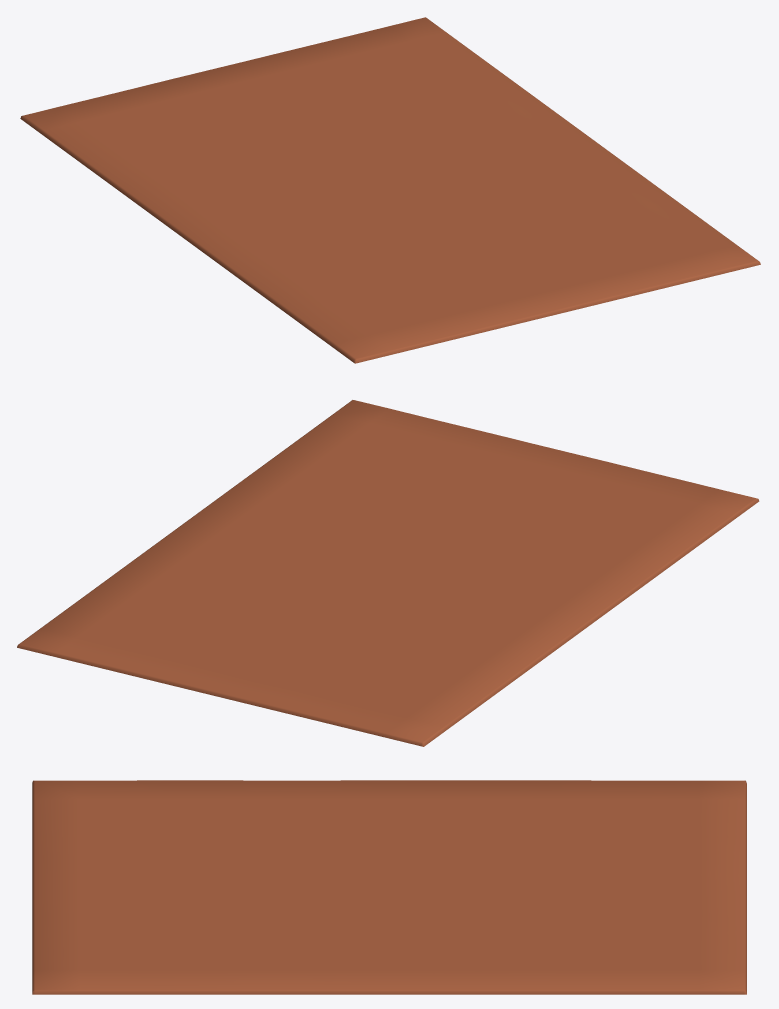
The model's file is rug_rust.glb.
3 renders of one model, top to bottom at view 1: azimuth 30°, elevation 25°; view 2: azimuth 150°, elevation 25°; view 3: azimuth 270°, elevation 25°, orthographic. The views are drawn at different scales.
Parts seen in each view (by area): view 1: rug_soft; view 2: rug_soft; view 3: rug_soft.
Part boxes in pixels (x1=…): rug_soft: x1=20, y1=17, x2=760, y2=363; rug_soft: x1=17, y1=400, x2=759, y2=746; rug_soft: x1=32, y1=780, x2=746, y2=994.
Size of the model in its own units: 1.4 by 0.0126 by 2.1.
